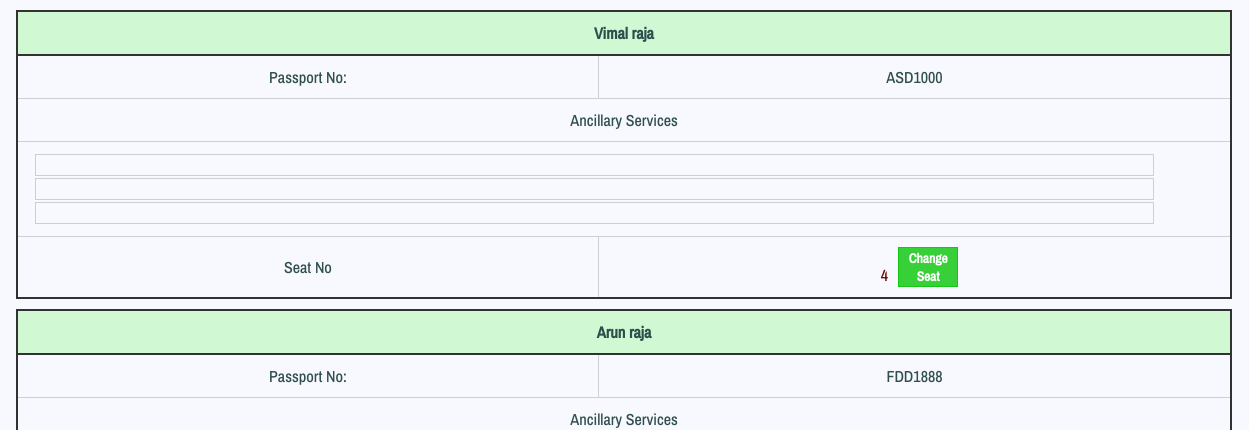
Test: should not display available seats on clicking change button
Click the button "Change Seat" at [928, 267], box [898,247,958,287]
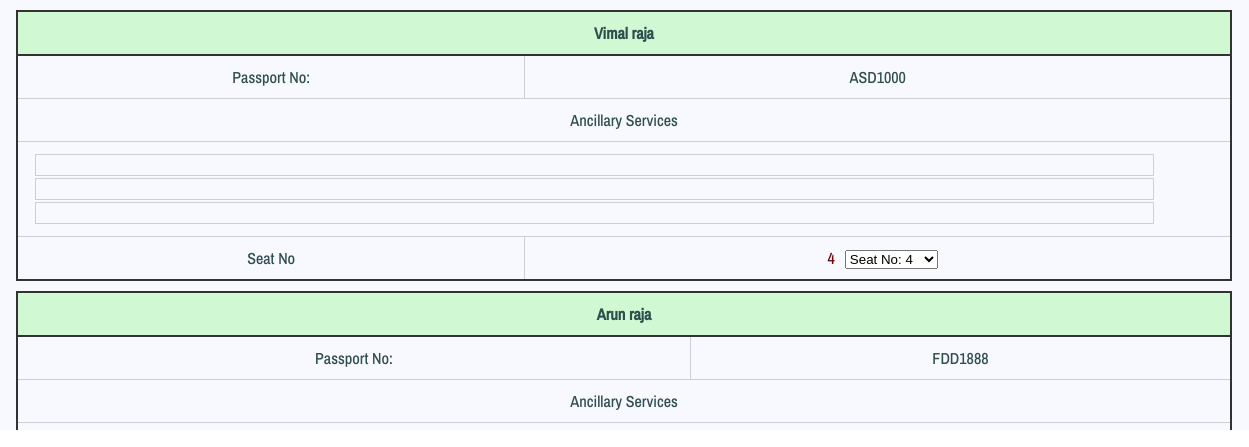
expect the dropdown is shown: met, box [845,250,938,269]
